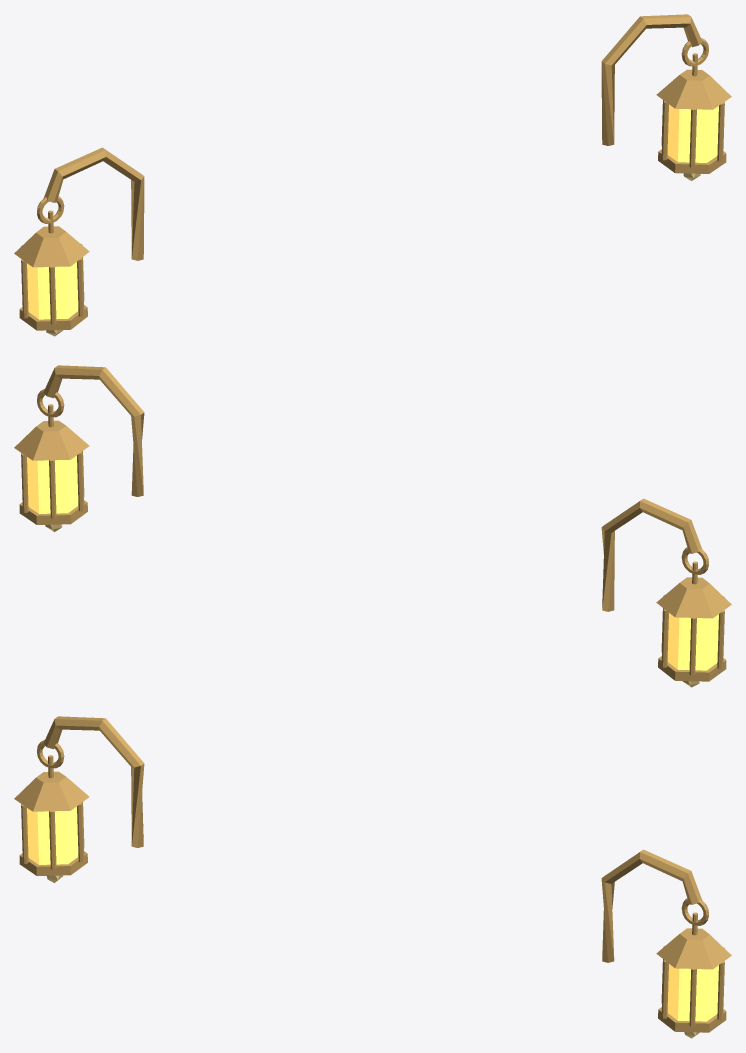
File: lanterns.glb
3 views of the same model, one above another, from view 1: azimuth 30°, elevation 25°; view 2: azimuth 150°, elevation 25°; view 3: azimuth 330°, elevation 25° (orthographic).
Parts seen in each view (by area): view 1: Swept brass bracket.001, Swept brass bracket, Amber panes.001, Amber panes, Lantern roof, Lantern roof.001, Lantern base.001, Lantern base; view 2: Swept brass bracket.001, Swept brass bracket, Amber panes.001, Amber panes, Lantern roof, Lantern roof.001, Lantern base.001, Lantern base; view 3: Swept brass bracket, Swept brass bracket.001, Amber panes, Amber panes.001, Lantern roof.001, Lantern roof, Lantern base, Lantern base.001.
Part boxes in pixels (left/top/right/bottom): Swept brass bracket.001: left=601, top=14, right=701, bottom=145; Swept brass bracket: left=44, top=147, right=144, bottom=260; Amber panes.001: left=667, top=104, right=718, bottom=162; Amber panes: left=27, top=262, right=78, bottom=319; Lantern roof: left=14, top=226, right=89, bottom=267; Lantern roof.001: left=656, top=69, right=731, bottom=109; Lantern base.001: left=658, top=149, right=726, bottom=173; Lantern base: left=19, top=305, right=87, bottom=330; Swept brass bracket.001: left=44, top=365, right=144, bottom=496; Swept brass bracket: left=601, top=498, right=701, bottom=611; Amber panes.001: left=27, top=455, right=78, bottom=513; Amber panes: left=667, top=613, right=718, bottom=670; Lantern roof: left=656, top=577, right=731, bottom=618; Lantern roof.001: left=14, top=420, right=89, bottom=460; Lantern base.001: left=19, top=500, right=87, bottom=524; Lantern base: left=658, top=656, right=726, bottom=681; Swept brass bracket: left=44, top=716, right=144, bottom=847; Swept brass bracket.001: left=601, top=849, right=701, bottom=962; Amber panes: left=27, top=806, right=78, bottom=864; Amber panes.001: left=667, top=964, right=718, bottom=1021; Lantern roof.001: left=656, top=928, right=731, bottom=969; Lantern roof: left=14, top=771, right=89, bottom=811; Lantern base: left=19, top=851, right=87, bottom=875; Lantern base.001: left=658, top=1007, right=726, bottom=1032.
Size of the model in its own units: 6.42 by 1.54 by 0.6.
